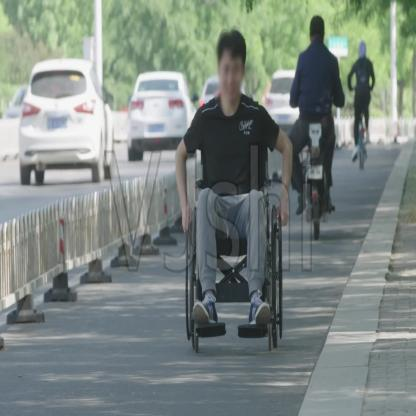wheelchair: (174, 28, 296, 353)
